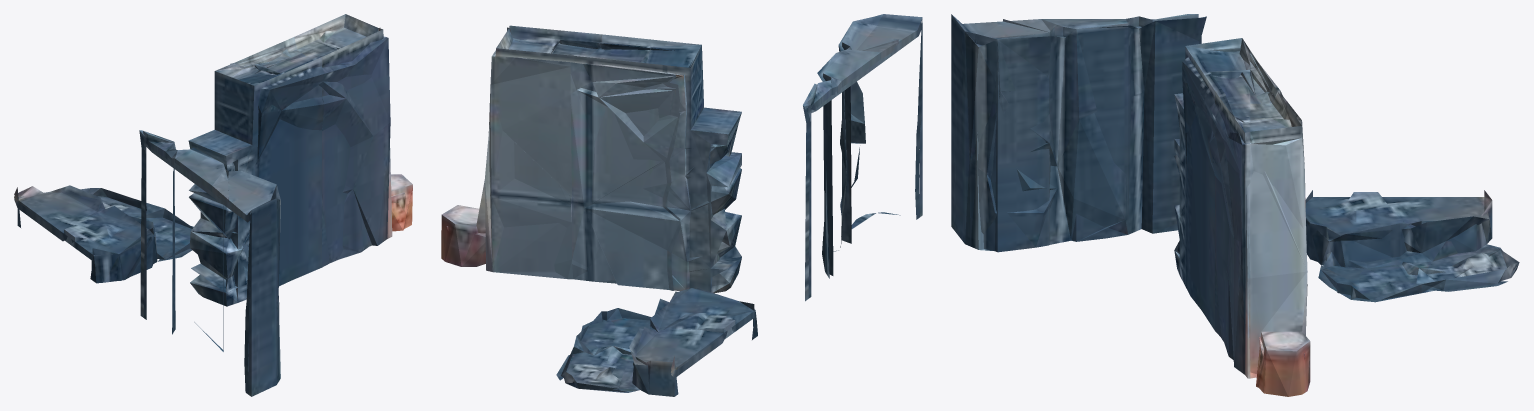
Rendered from chunk_-3_-1.glb.
3 renders of one model, left to right at view 1: azimuth 30°, elevation 25°; view 2: azimuth 150°, elevation 25°; view 3: azimuth 270°, elevation 25°, orthographic. The views are drawn at different scales.
Parts seen in each view (by area): view 1: hero-chunk; view 2: hero-chunk; view 3: hero-chunk.
Boxes of the visible parts, x1=… form: hero-chunk: x1=14, y1=14, x2=412, y2=396; hero-chunk: x1=441, y1=14, x2=922, y2=396; hero-chunk: x1=951, y1=14, x2=1519, y2=396.
Bounding box in the file's own units: 46.19 × 30.07 × 64.32.
Materials: 1 (1 with a texture image).
